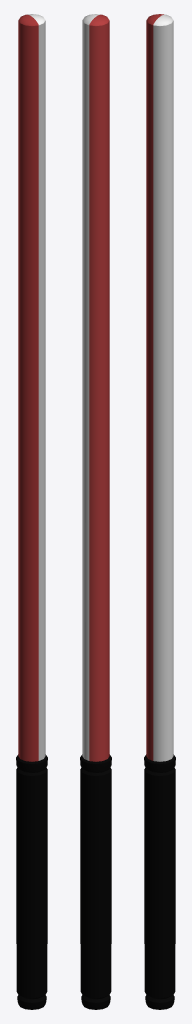
The model's file is Sea_Mark_Safe_Waters.fbx.
The picture shows the model from 3 angles, left to right: view 1: azimuth 30°, elevation 25°; view 2: azimuth 150°, elevation 25°; view 3: azimuth 330°, elevation 25°; orthographic projection.
Parts seen in each view (by area): view 1: Mdl_SeaSign_Safe_Waters; view 2: Mdl_SeaSign_Safe_Waters; view 3: Mdl_SeaSign_Safe_Waters.
Boxes of the visible parts, x1,y1,x2,y2 form: Mdl_SeaSign_Safe_Waters: (16, 14, 47, 1009); Mdl_SeaSign_Safe_Waters: (80, 14, 111, 1009); Mdl_SeaSign_Safe_Waters: (144, 14, 175, 1009).
Size of the model in its own units: 0.0583 by 2.01 by 0.0583.
